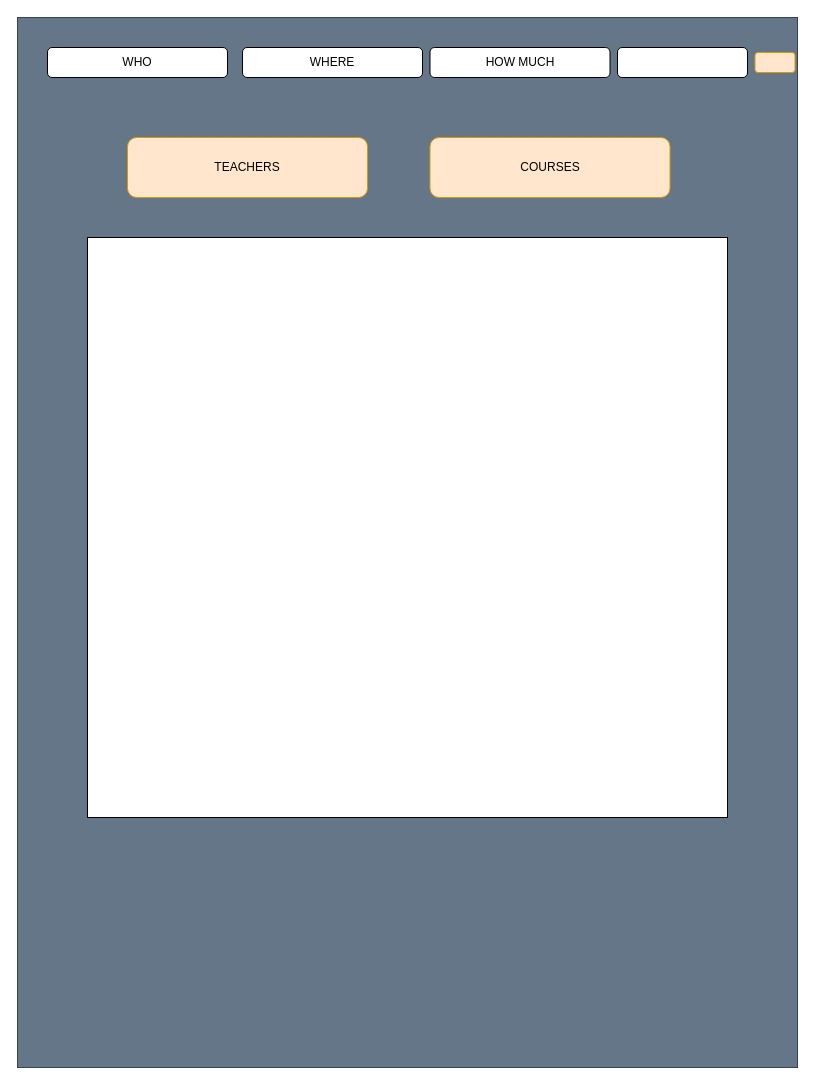
Some shapes in this 815 by 1085 pixel diagram are drawn without their labels. Each missing label, with the centre of its shape:
PERIOD: the point at 682,62
SUBMIT: the point at 774,62
